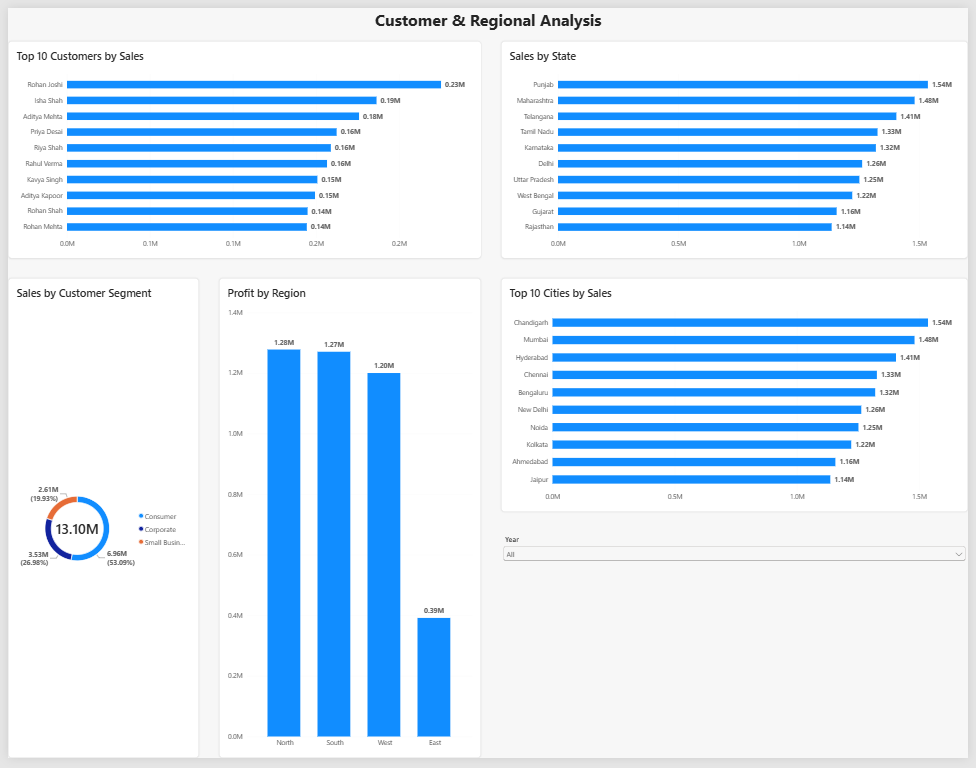

Layout of this report page (visuals, bound fields, positions):
{"tool":"powerbi","page":{"name":"Customer & Regional Analysis","canvas":[1920,1500],"ordinal":2},"visuals":[{"type":"textbox","box":[0,0,1920.6,66.5],"z":0},{"type":"clusteredBarChart","title":"Top 10 Customers by Sales","fields":{"Category":["DimCustomer.Customer Name"],"Y":["sales_data.Total Sales"]},"box":[0,66.5,947,434.9],"z":1000},{"type":"clusteredBarChart","title":"Sales by State","fields":{"Category":["DimCustomer.State"],"Y":["sales_data.Total Sales"]},"box":[986.9,66.5,933.8,435.1],"z":2000},{"type":"donutChart","title":"Sales by Customer Segment","fields":{"Category":["DimCustomer.Customer Segment"],"Y":["sales_data.Total Sales"]},"box":[0,540,382,960],"z":3000},{"type":"clusteredBarChart","title":"Top 10 Cities by Sales","fields":{"Category":["DimCustomer.City"],"Y":["sales_data.Total Sales"]},"box":[986,540,934,468],"z":4000},{"type":"clusteredColumnChart","title":"Profit by Region","fields":{"Category":["DimCustomer.Region"],"Y":["sales_data.Total Profit"]},"box":[422,540,524,960],"z":5000},{"type":"slicer","fields":{"Values":["DateTable.Year"]},"box":[986,1054,934,446],"z":6000}]}

Visuals, with their boxes in screenshot pixels (x1, y1, x2, y2), scaled from the page's 1920x1500 canvas onto the 976x768 screenshot:
textbox: (0,0,975,34)
"Top 10 Customers by Sales" clusteredBarChart: (0,34,481,257)
"Sales by State" clusteredBarChart: (502,34,975,257)
"Sales by Customer Segment" donutChart: (0,276,194,767)
"Top 10 Cities by Sales" clusteredBarChart: (501,276,975,516)
"Profit by Region" clusteredColumnChart: (215,276,481,767)
slicer - DateTable.Year: (501,540,975,767)
